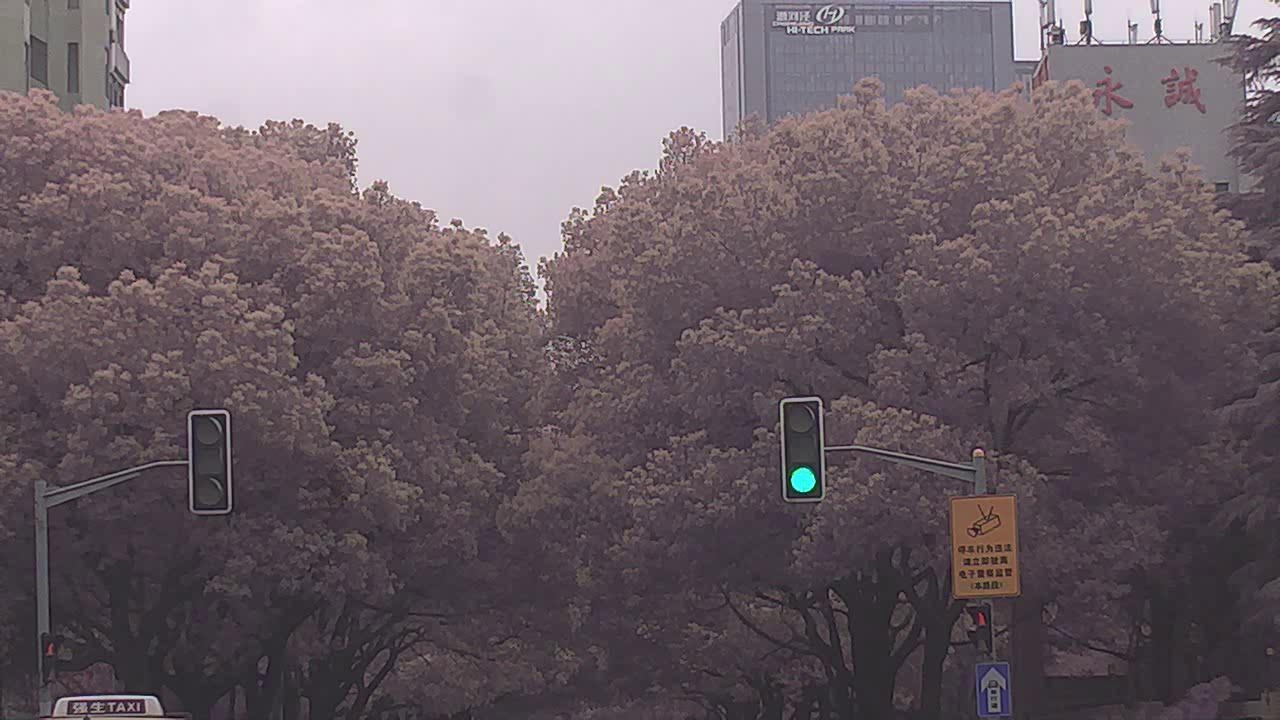traffic_light: (187, 412, 239, 518), (784, 404, 827, 498)
